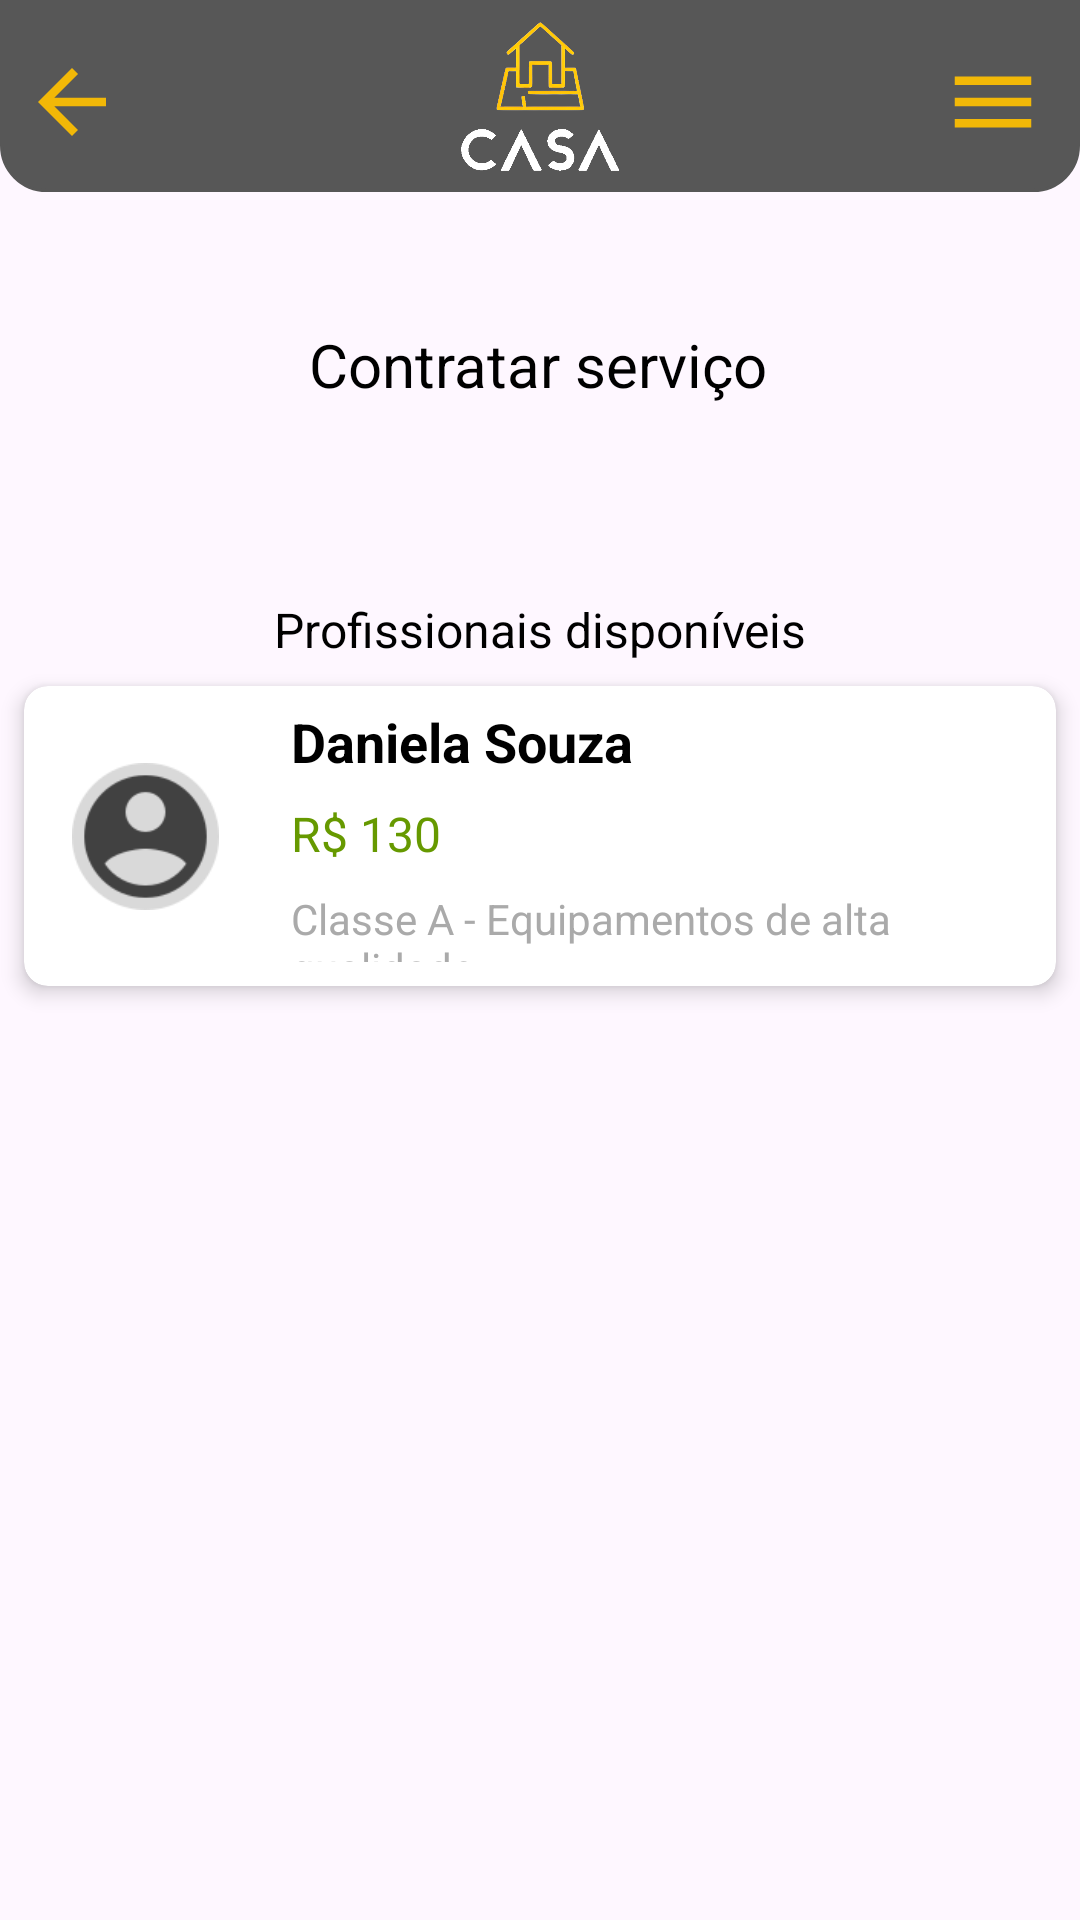

Screen size 1080x1920. Icon name, then its center in pixels as (x,y):
arrow back: (72,102)
menu: (993,102)
Ícone de pessoa: (145,836)
